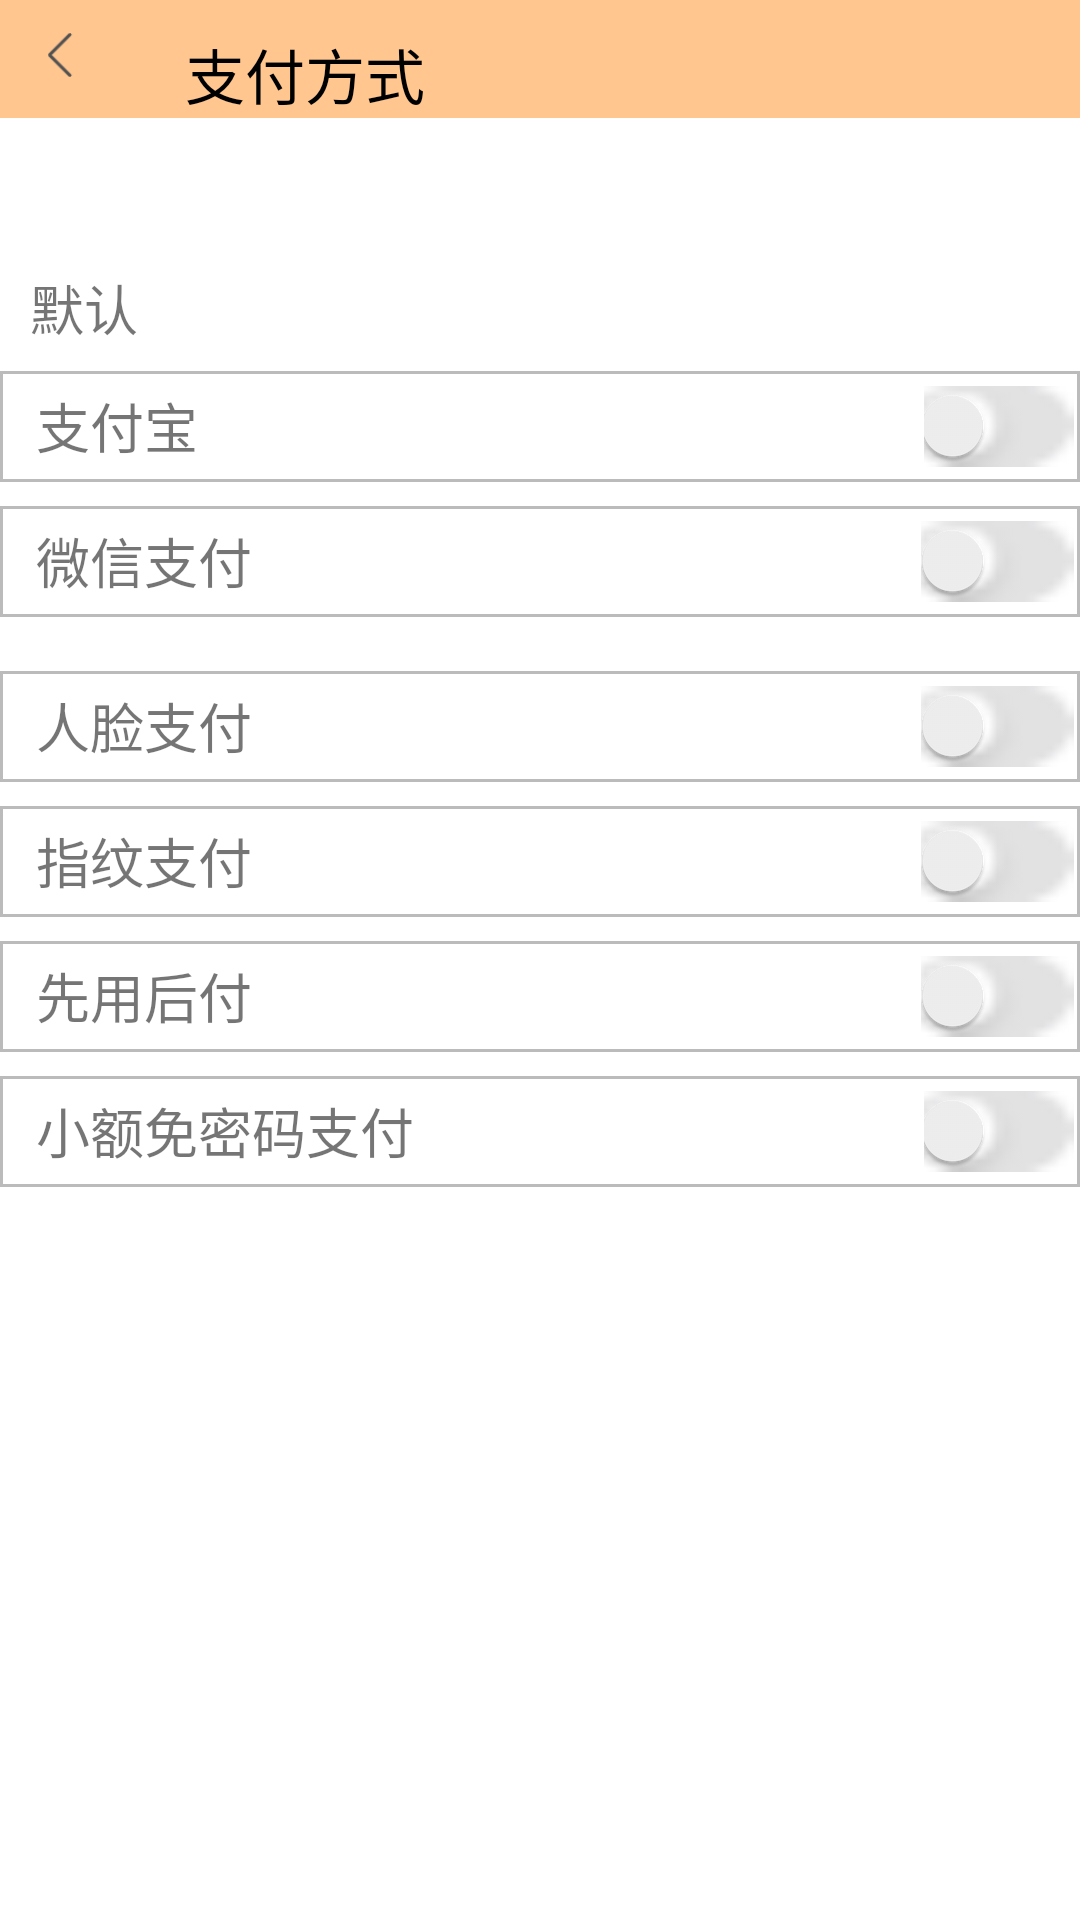

Icon click points for this 1080*1920 phone screenshot, format (x=x, y=y):
fanhui: (x=60, y=55)
